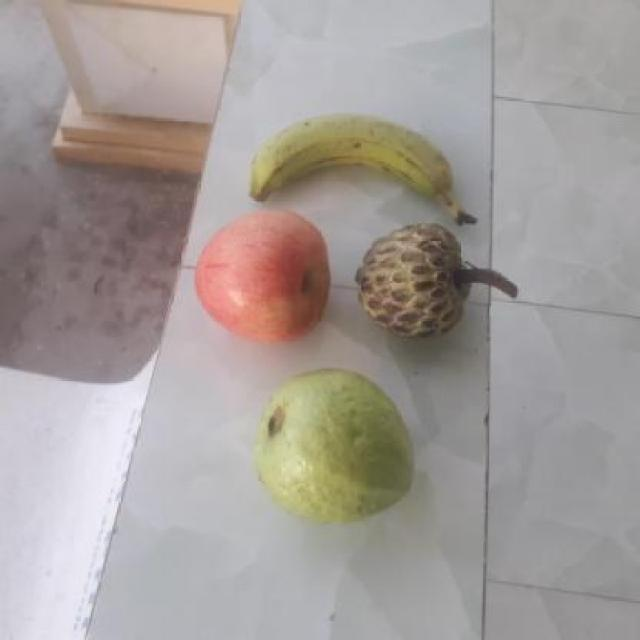apple: (190, 208, 336, 342)
guava: (245, 369, 408, 523)
sugar apple: (349, 226, 476, 339)
